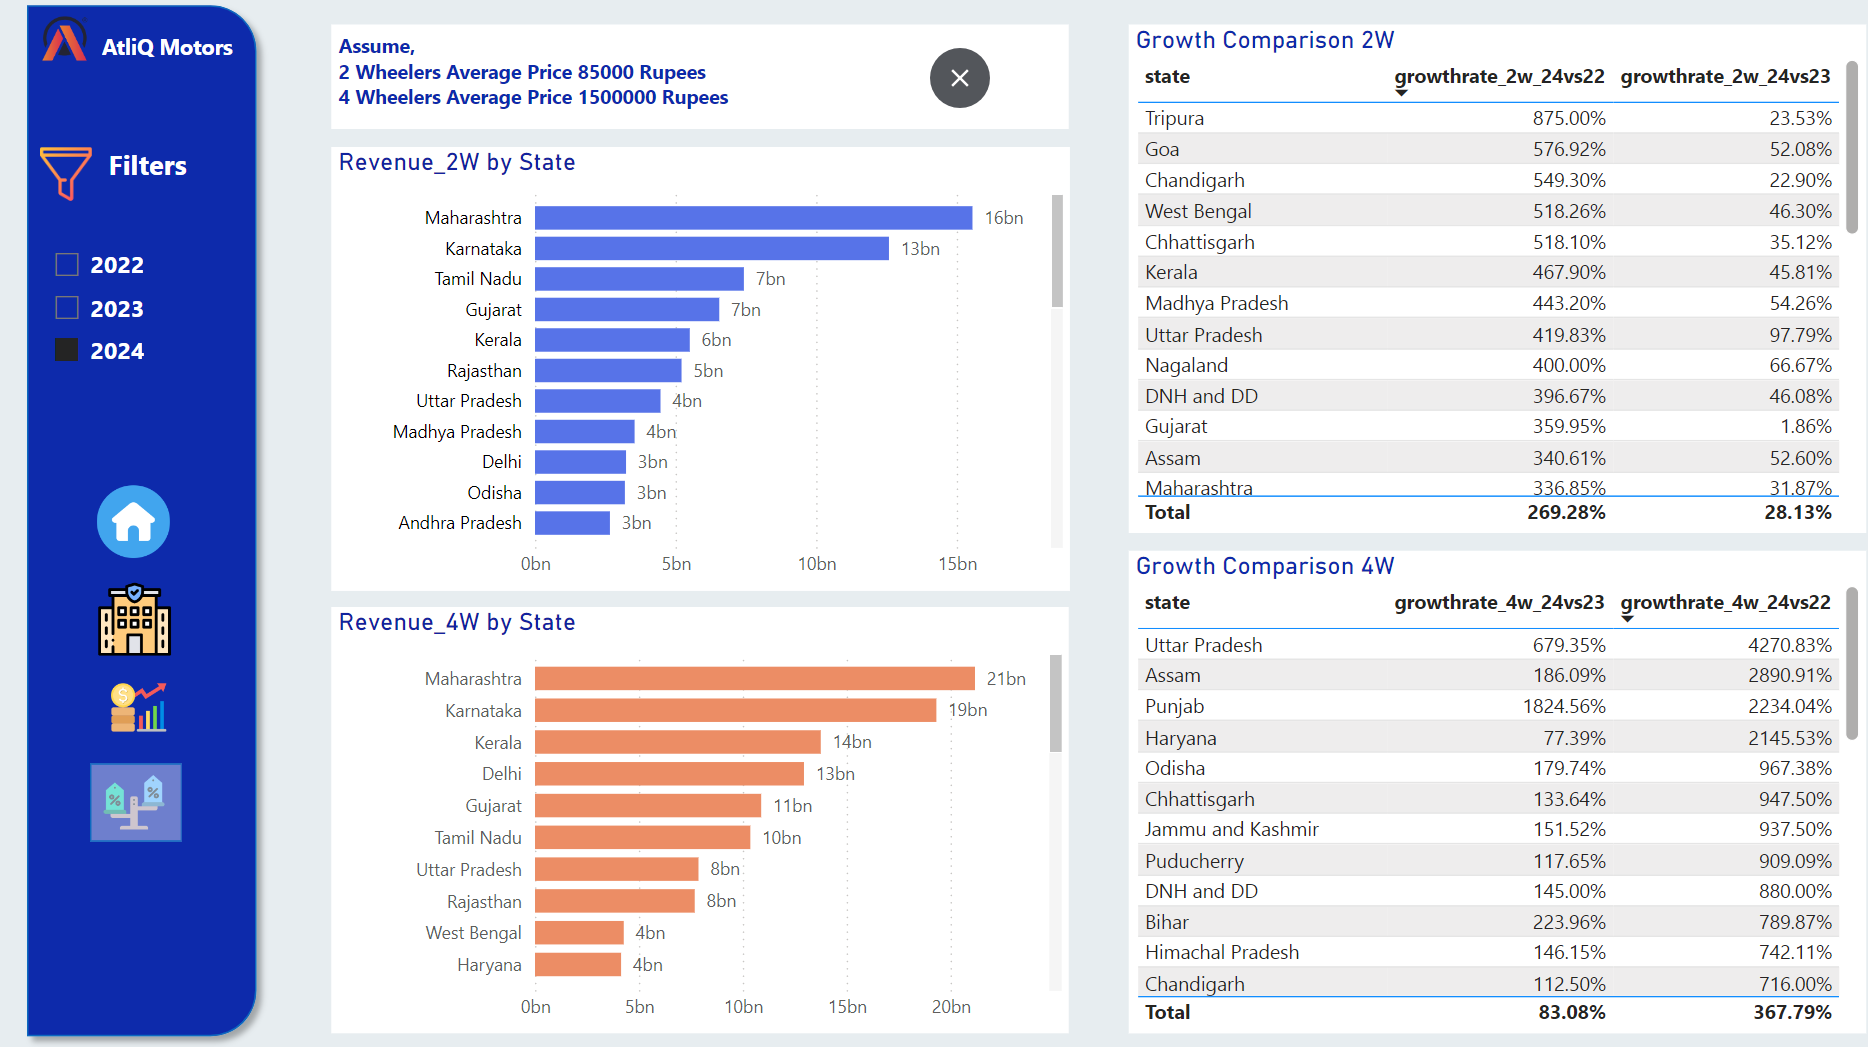

The dashboard page shown, as its layout file describes it:
{"tool":"powerbi","page":{"name":"Revenue Analysis","canvas":[1280,720],"ordinal":4},"visuals":[{"type":"shape","box":[9.6,0,174.3,720.4],"z":0},{"type":"image","box":[20.6,11,48,41.2],"z":1000},{"type":"textbox","box":[49.4,22,124.9,41.2],"z":2000},{"type":"image","box":[61.6,330.2,59.3,60.5],"z":3000},{"type":"image","box":[60.5,457,68.6,60.5],"z":4000},{"type":"image","box":[61.6,397.7,60.5,59.3],"z":6000},{"type":"image","box":[61.6,522.1,60.5,60.5],"z":7000},{"type":"shape","box":[61.6,525.6,62.8,53.5],"z":8000},{"type":"clusteredBarChart","title":"Revenue_2W by State","fields":{"Category":["electric_vehicle_sales_by_state.state"],"Y":["Key Measures.revenue_2W"]},"box":[225.6,105.8,503.5,302.3],"z":9000},{"type":"clusteredBarChart","title":"Revenue_4W by State","fields":{"Category":["electric_vehicle_sales_by_state.state"],"Y":["Key Measures.revenue_4W"]},"box":[225.6,418.6,502.3,290.7],"z":10000},{"type":"tableEx","title":"Growth Comparison  4W","fields":{"Values":["electric_vehicle_sales_by_state.state","Key Measures.growthrate_4w_24vs23","Key Measures.growthrate_4w_24vs22"]},"box":[768.6,380.2,502.3,329.1],"z":11000},{"type":"tableEx","title":"Growth Comparison  2W","fields":{"Values":["electric_vehicle_sales_by_state.state","Key Measures.growthrate_2w_24vs22","Key Measures.growthrate_2w_24vs23"]},"box":[768.6,22.1,502.3,346.5],"z":12000},{"type":"textbox","box":[225.6,22.1,502.3,70.9],"z":13000},{"type":"slicer","fields":{"Values":["dim_date.fiscal_year"]},"box":[24.4,166.3,144.2,100],"z":15000},{"type":"textbox","box":[68.6,100,104.7,53.5],"z":16000},{"type":"image","box":[20.9,100,47.7,48.8],"z":17000}]}

Visuals, with their boxes on the page's 1280x720 design canvas (x1, y1, x2, y2). These are canvas units, not pixel positions in the 1868x1047 screenshot, which may show the page scaled, cropped or inside an application window:
shape: crop(10, 0, 184, 720)
image: crop(21, 11, 69, 52)
textbox: crop(49, 22, 174, 63)
image: crop(62, 330, 121, 391)
image: crop(60, 457, 129, 518)
image: crop(62, 398, 122, 457)
image: crop(62, 522, 122, 583)
shape: crop(62, 526, 124, 579)
"Revenue_2W by State" clusteredBarChart: crop(226, 106, 729, 408)
"Revenue_4W by State" clusteredBarChart: crop(226, 419, 728, 709)
"Growth Comparison  4W" tableEx: crop(769, 380, 1271, 709)
"Growth Comparison  2W" tableEx: crop(769, 22, 1271, 369)
textbox: crop(226, 22, 728, 93)
slicer - dim_date.fiscal_year: crop(24, 166, 169, 266)
textbox: crop(69, 100, 173, 154)
image: crop(21, 100, 69, 149)
